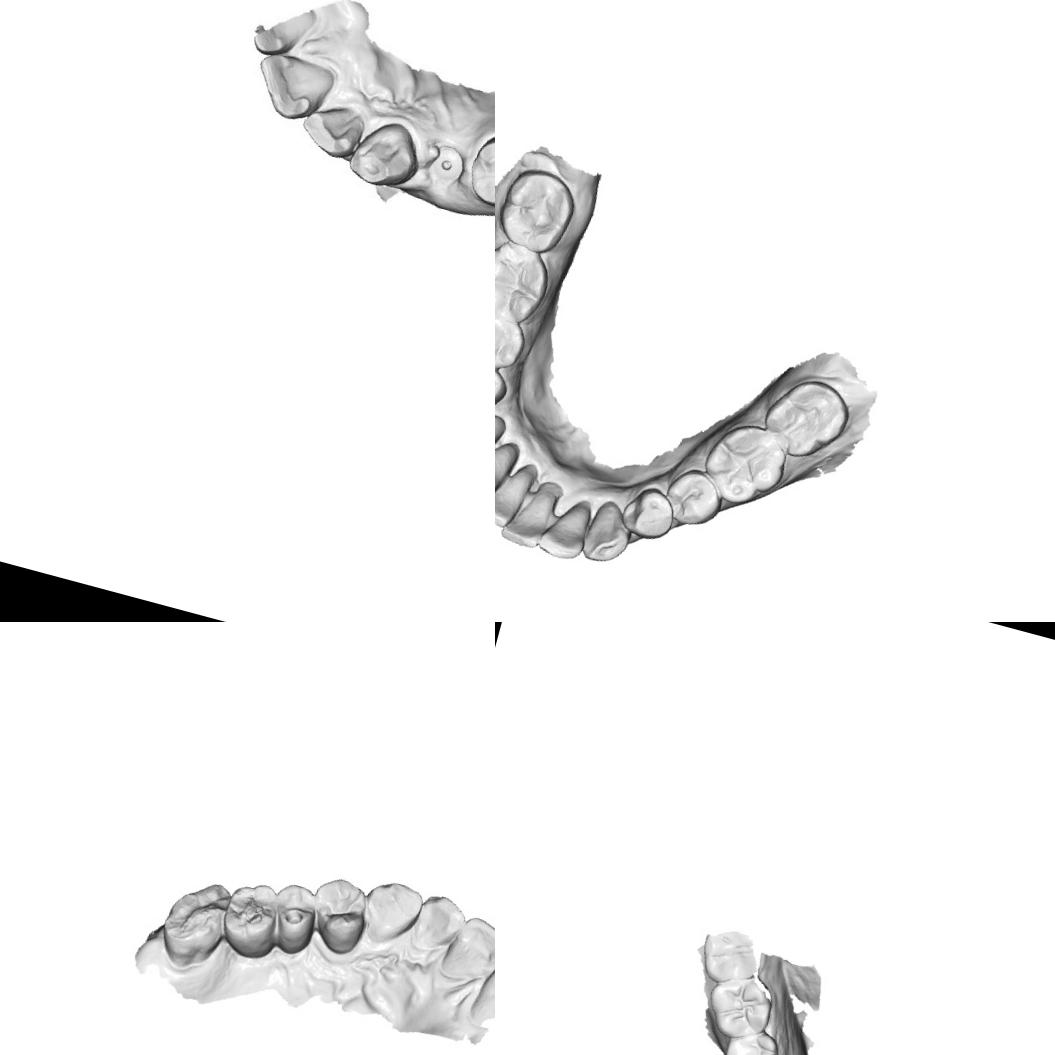canine: (343, 115, 427, 194), (355, 873, 426, 953), (577, 494, 638, 570)
implant: (424, 136, 467, 191)
incisor: (250, 43, 342, 132), (434, 908, 495, 994), (497, 471, 559, 552), (534, 492, 600, 566), (407, 889, 472, 960), (302, 101, 369, 162), (495, 455, 538, 533), (465, 945, 495, 1033), (495, 431, 521, 502)
molar: (754, 368, 856, 469), (694, 412, 795, 514), (151, 870, 235, 976), (495, 159, 583, 260), (213, 874, 287, 964), (699, 968, 780, 1047), (495, 235, 555, 327), (694, 926, 763, 991)
premolar: (300, 870, 375, 960), (262, 878, 325, 960), (656, 462, 728, 533), (614, 479, 680, 545), (463, 135, 495, 211), (715, 1022, 788, 1055), (495, 312, 529, 374), (495, 357, 511, 420)
